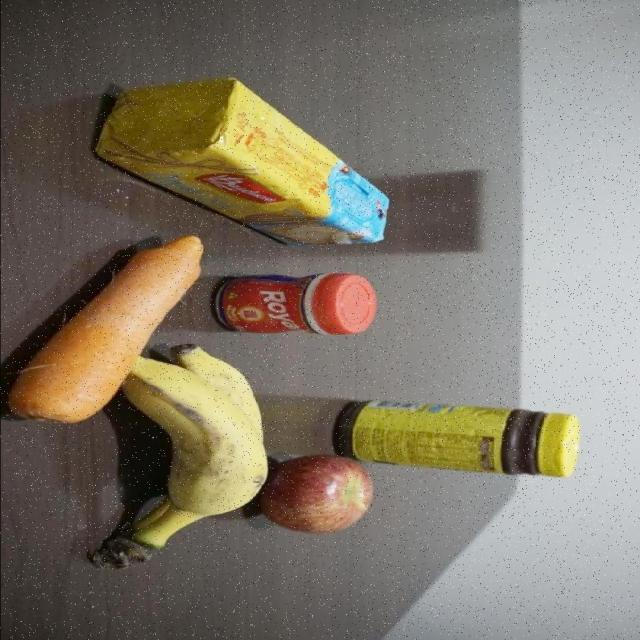Apple: (281, 455, 370, 544)
Banana: (95, 353, 277, 579)
Carrot: (43, 246, 206, 341)
ChocolatePowder: (373, 403, 583, 478)
Cracker: (99, 76, 390, 245)
Yeast: (209, 268, 375, 339)
